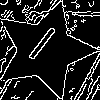I: (20, 25, 59, 70)
